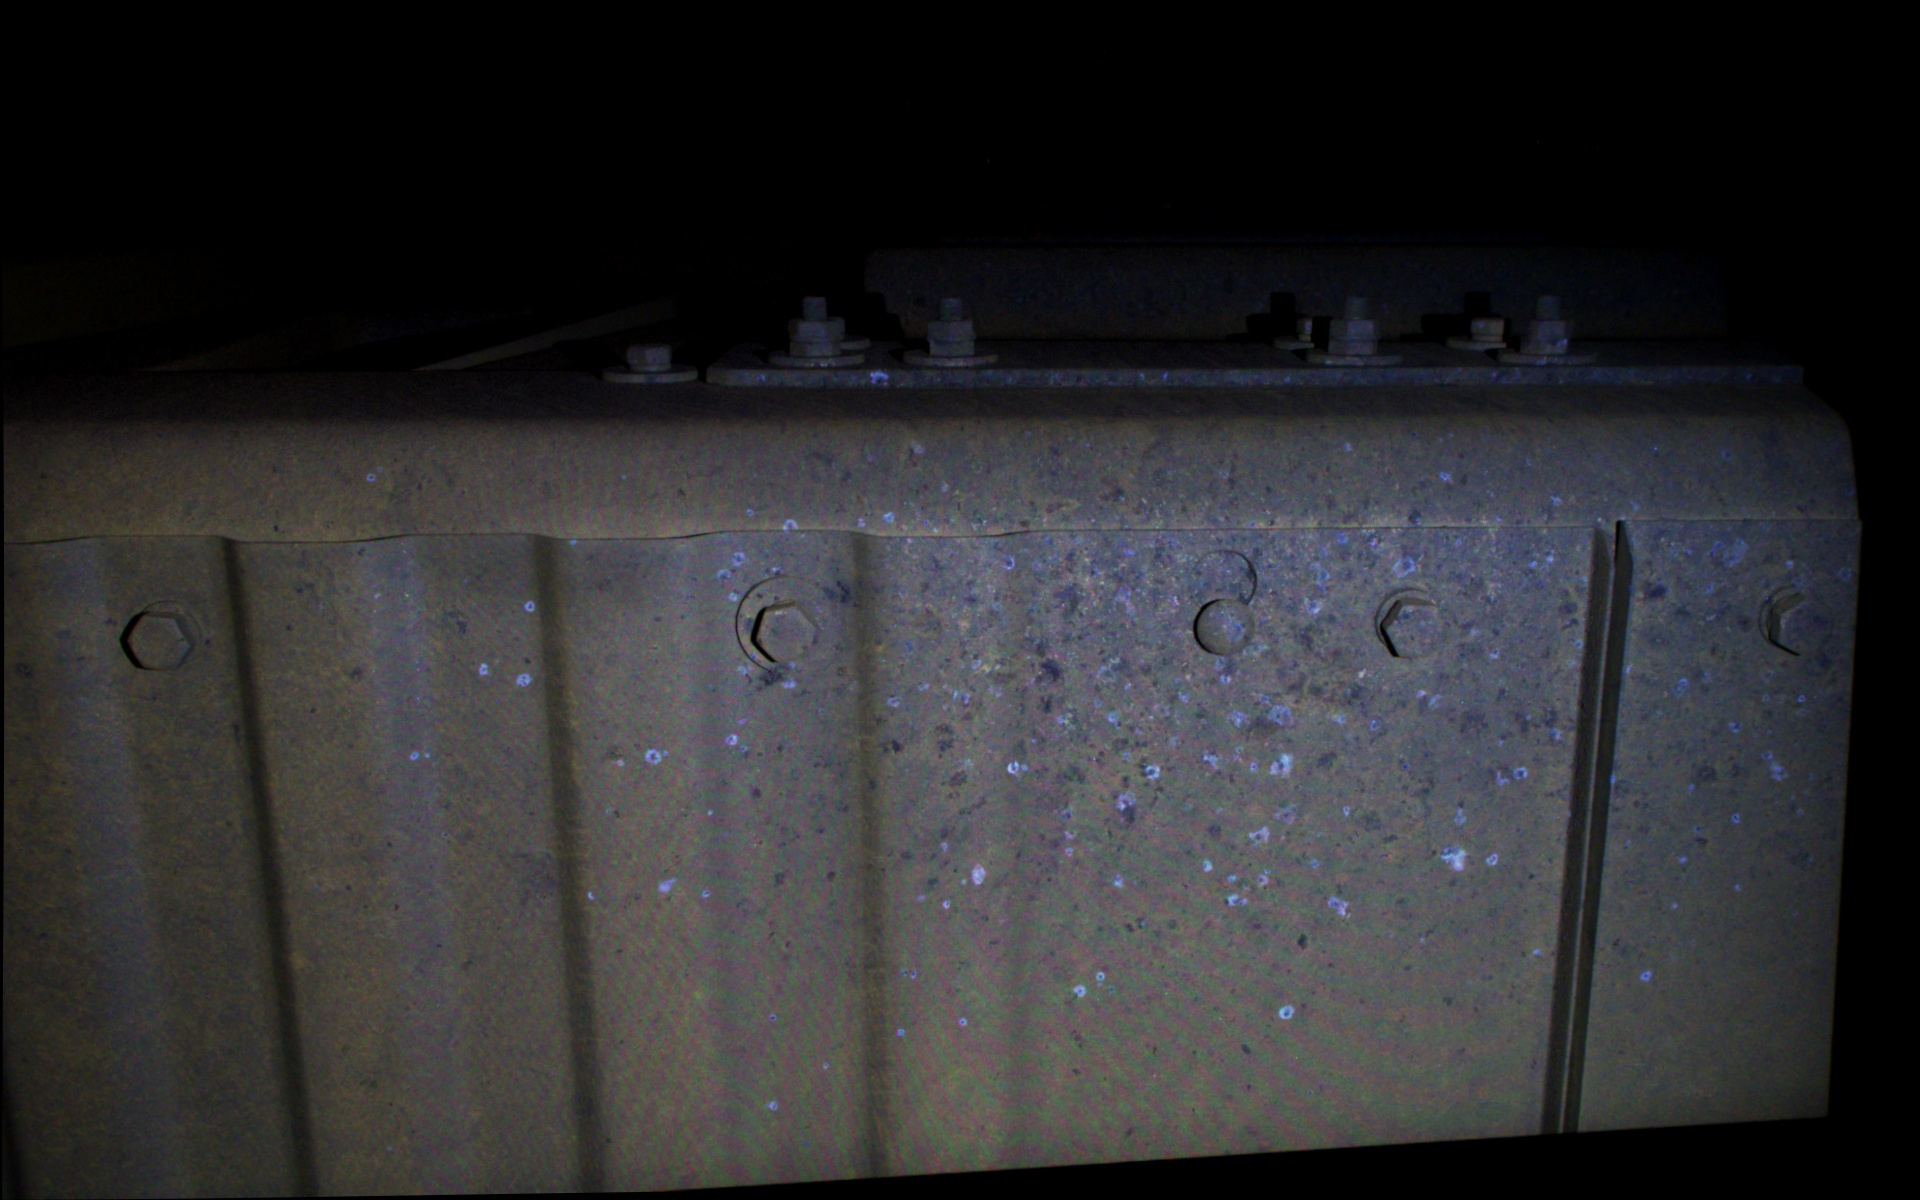BoltHead1: (120, 606, 194, 680)
BoltHead2: (751, 599, 818, 673)
BoltHead3: (1366, 599, 1444, 662)
BoltHead4: (1762, 590, 1837, 666)
